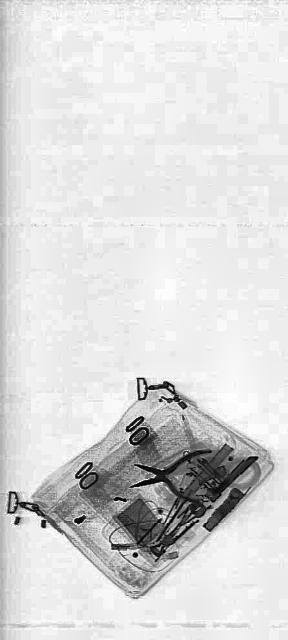Pliers: (128, 441, 212, 505)
